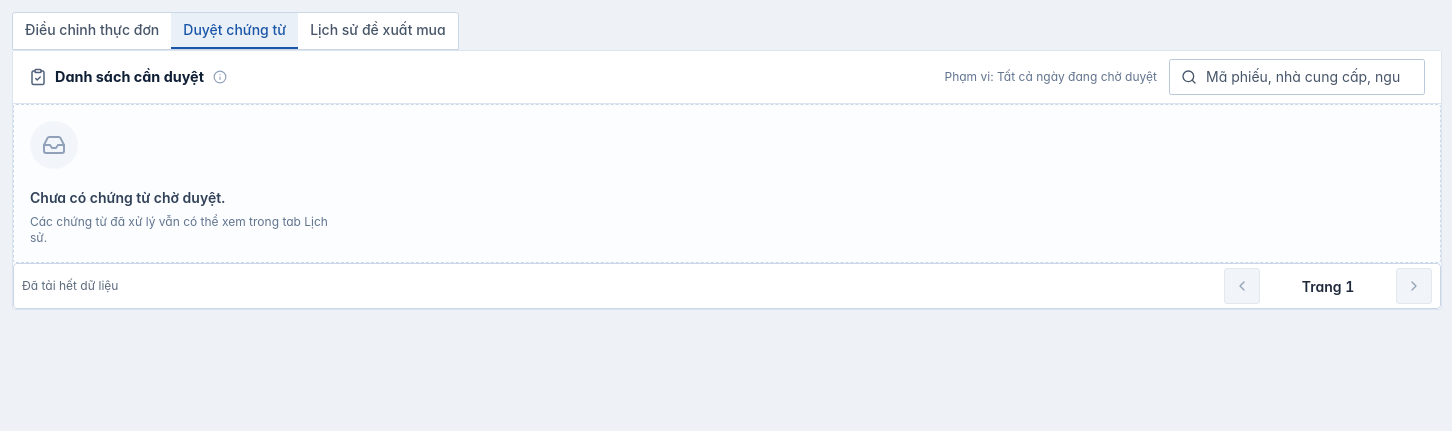
it: ApprovalPage query state boundary › keeps history entries visible while refreshing
What coordinates should you click on to do the following:
click the tab "Lịch sử đề xuất mua"
I would click on:
 (378, 31)
Its box is [298,13,458,49].
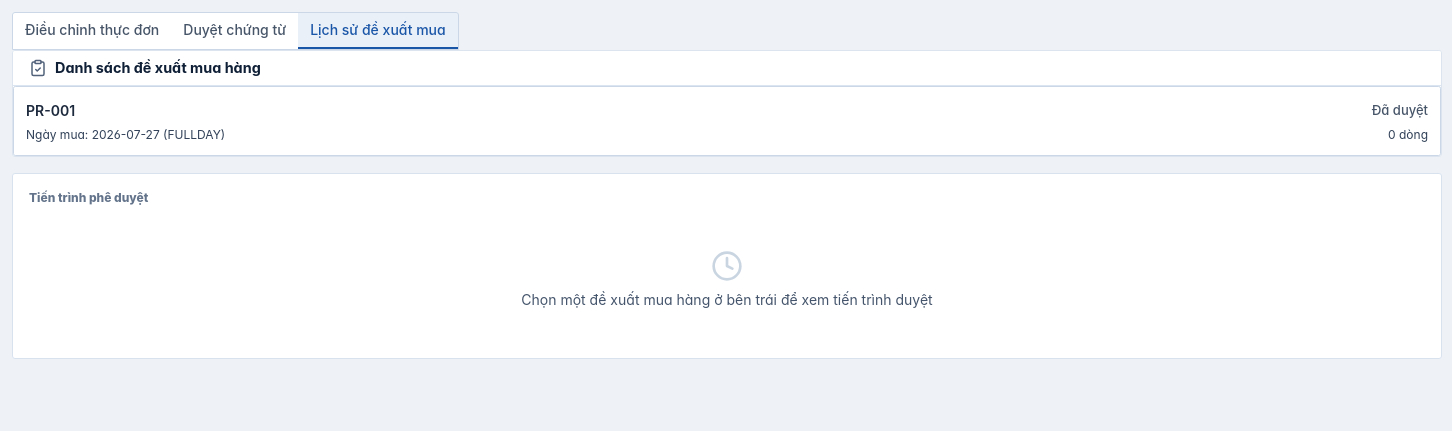
What coordinates should you click on to do the following:
click the button "PR-001 Đã duyệt Ngày mua: 2026-07-27 (FULLDAY) 0 dòng"
I would click on:
 (51, 110)
Its box is [13,86,1441,156].
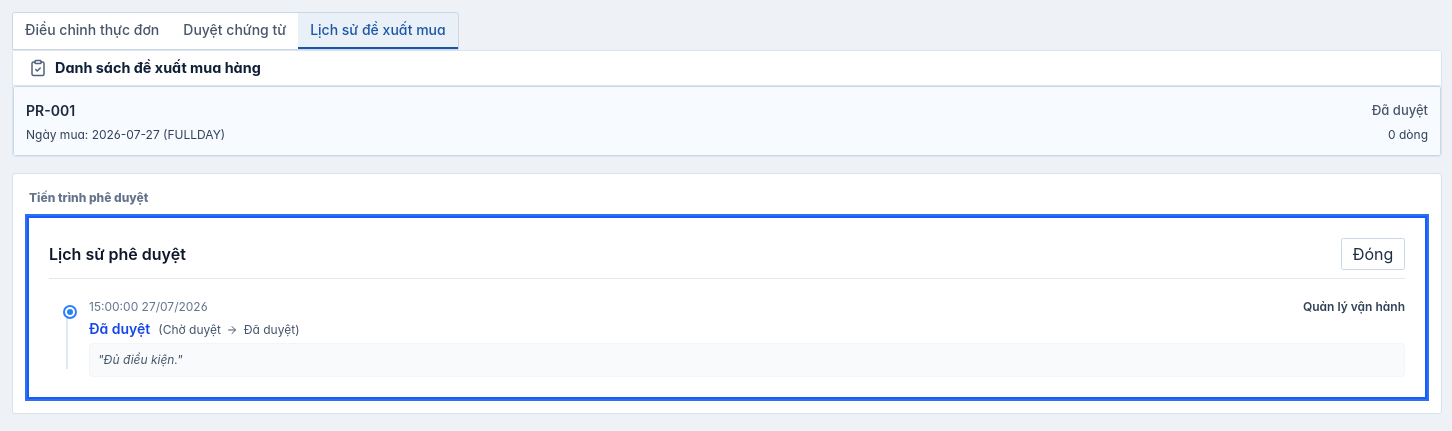
Expected: the text "Quản lý vận hành" is shown, [1303,299,1405,315]
